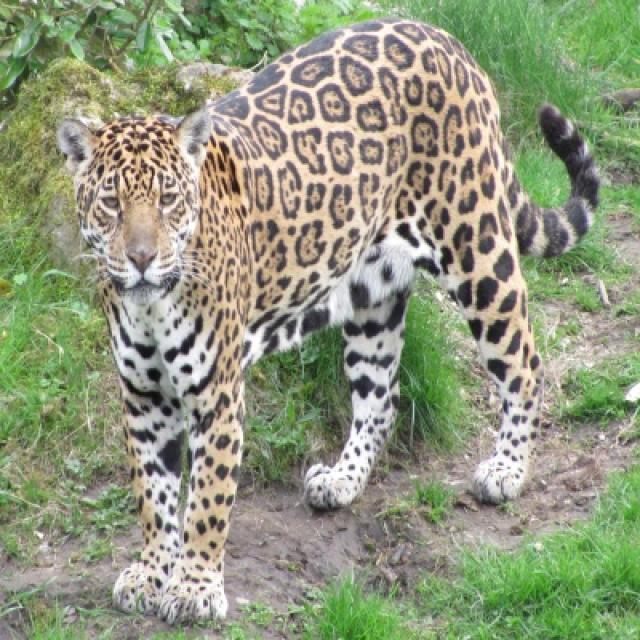Jaguar: (54, 19, 602, 627)
